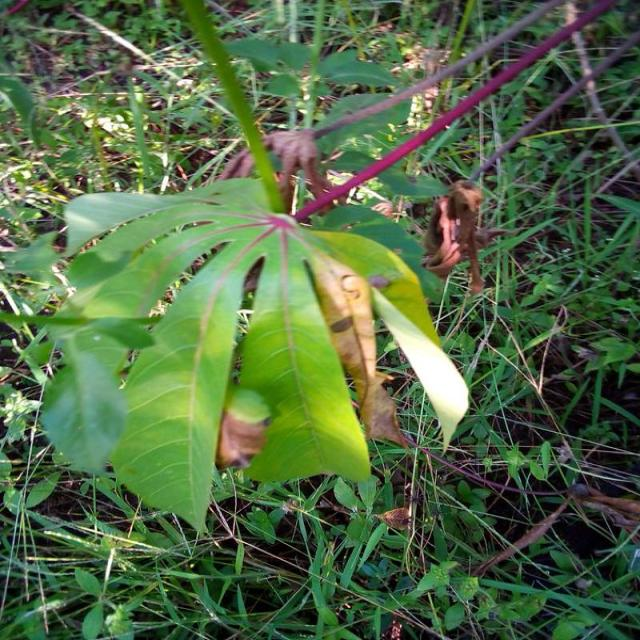cassava leaf: (35, 170, 470, 533)
